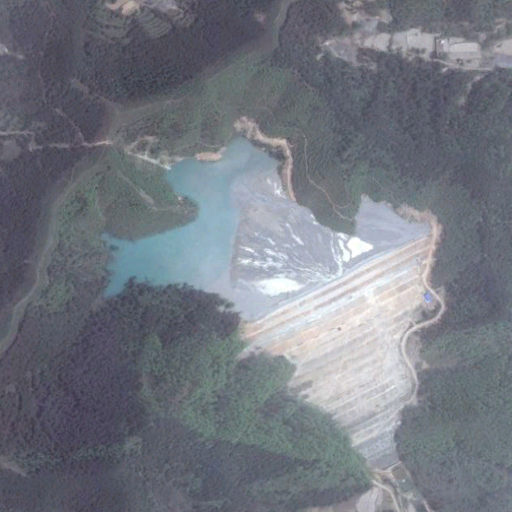tp: (106, 146, 444, 468)
